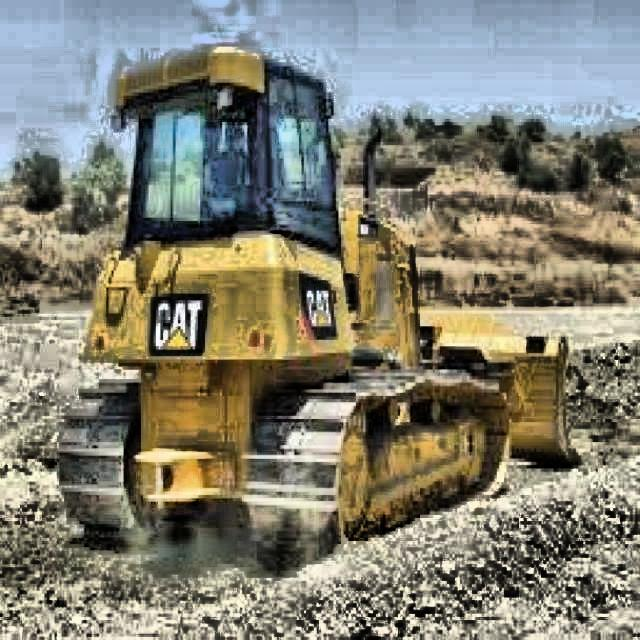bull_dozer/loader/grader: (57, 46, 581, 558)
person: (208, 120, 250, 196)
